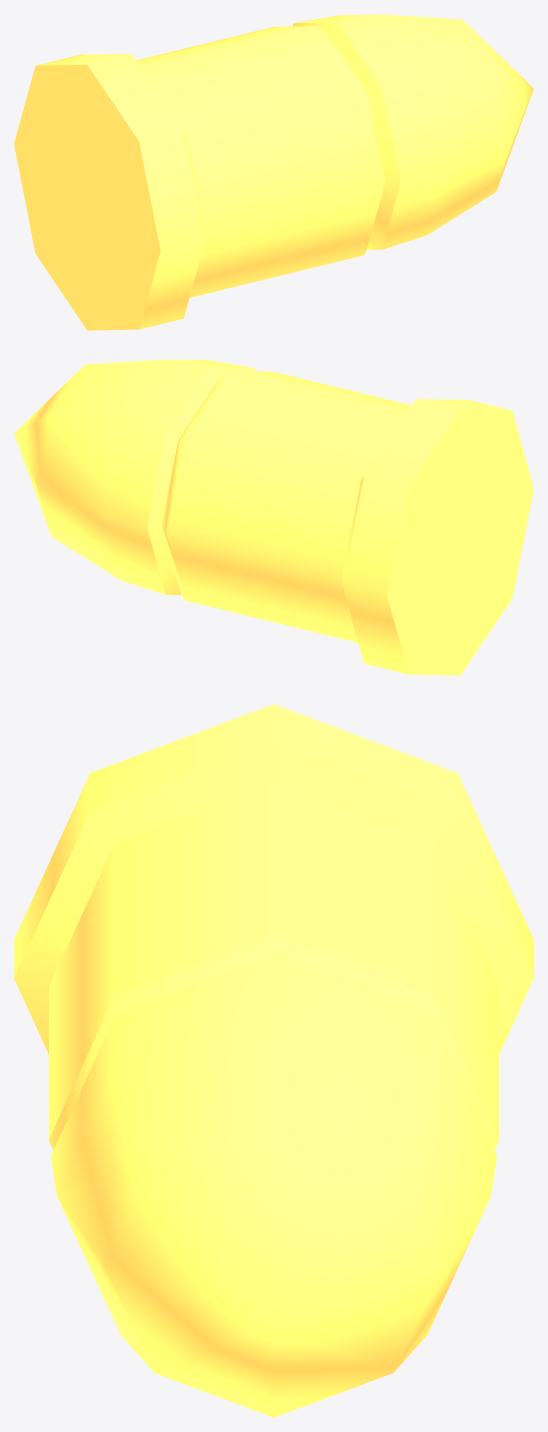
Rendered from CompleteShell.fbx.
3 views of the same model, one above another, from view 1: azimuth 30°, elevation 25°; view 2: azimuth 150°, elevation 25°; view 3: azimuth 270°, elevation 25° (orthographic). The views are drawn at different scales.
Visible parts, largest first — view 1: CompleteShell; view 2: CompleteShell; view 3: CompleteShell.
Boxes of the visible parts, x1,y1,x2,y2 form: CompleteShell: [14, 14, 533, 330]; CompleteShell: [14, 359, 533, 675]; CompleteShell: [14, 704, 533, 1417].
Bounding box in the file's own units: 15.76 × 8.96 × 8.96.
